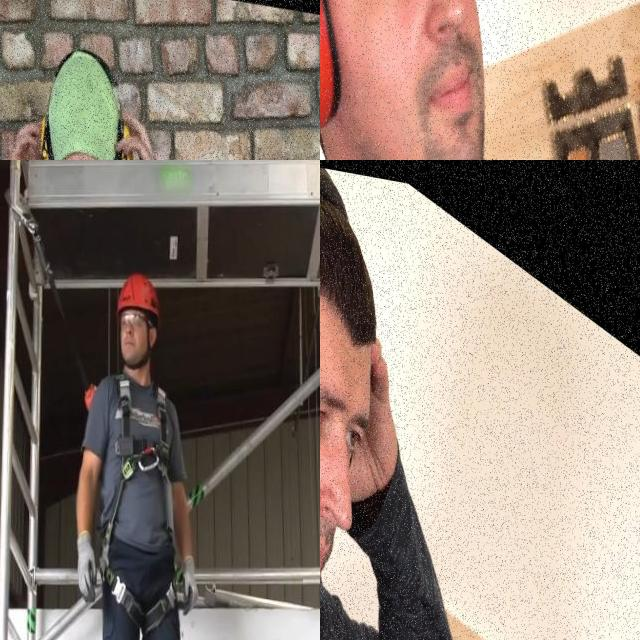Ear-protection: (320, 160, 422, 640), (37, 105, 61, 160), (113, 113, 137, 160)
Harness: (105, 373, 187, 540)
No_Glasses: (320, 357, 369, 473)
person: (320, 0, 591, 160)
